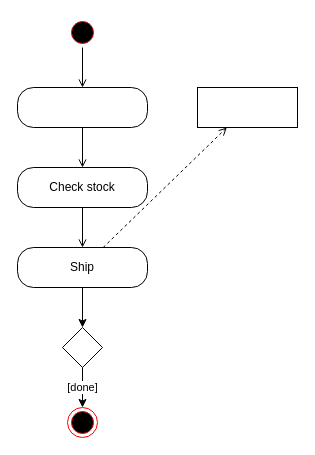
The diagram is 315 pixels wide and 455 high, and some of its shapes have lost their labels. The centre of each missing label's shape, as x and y in pixels:
"order:Order" goes at [247,107].
"Receive order" goes at [82,107].
